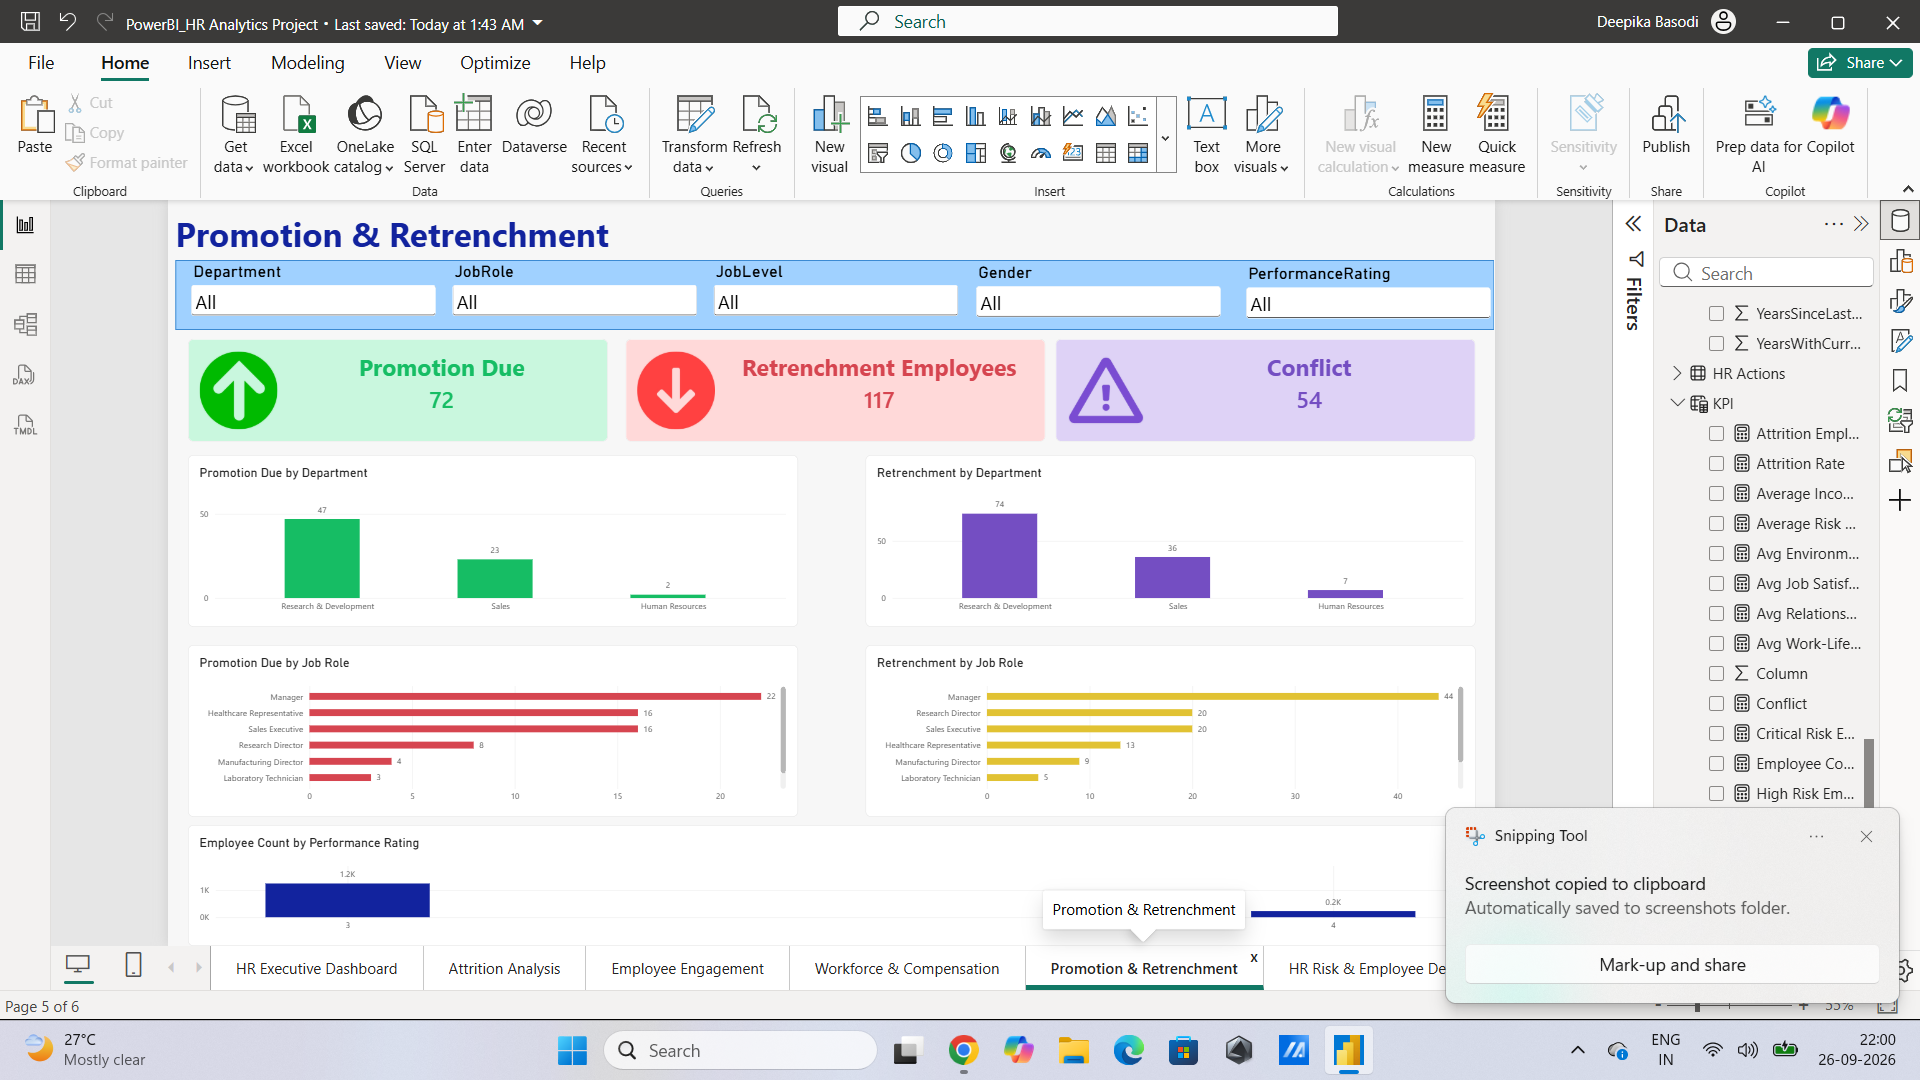

The dashboard page shown, as its layout file describes it:
{"tool":"powerbi","page":{"name":"Promotion & Retrenchment","canvas":[1920,1080],"ordinal":4},"visuals":[{"type":"shape","box":[10.9,86.9,1909.2,101.3],"z":0},{"type":"textbox","box":[10.9,16.3,667.8,70.6],"z":1000},{"type":"slicer","fields":{"Values":["HR.Department"]},"box":[28.1,88.7,363.6,110.4],"z":2000},{"type":"slicer","fields":{"Values":["HR.JobRole"]},"box":[406.9,88.7,363.6,110.4],"z":3000},{"type":"slicer","fields":{"Values":["HR.JobLevel"]},"box":[785.6,88.7,363.6,110.4],"z":4000},{"type":"slicer","fields":{"Values":["HR.Gender"]},"box":[1165.4,90.5,363.6,110.4],"z":5000},{"type":"slicer","fields":{"Values":["HR.PerformanceRating"]},"box":[1556,93.1,363.6,110.4],"z":6000},{"type":"cardVisual","fields":{"Data":["KPI.Promotion Due"]},"box":[28.1,201.3,608.1,149.3],"z":7000},{"type":"cardVisual","fields":{"Data":["KPI.Retrenchment Employees"]},"box":[662.2,201.3,608.1,149.3],"z":8000},{"type":"cardVisual","fields":{"Data":["KPI.Conflict"]},"box":[1285.5,201.3,608.1,149.3],"z":9000},{"type":"clusteredColumnChart","fields":{"Category":["HR.Department"],"Y":["KPI.Promotion Due"]},"box":[28.1,370.1,883,248.9],"z":10000},{"type":"clusteredColumnChart","title":"Retrenchment by Department","fields":{"Category":["HR.Department"],"Y":["KPI.Retrenchment Employees"]},"box":[1010.7,370.1,883,248.9],"z":11000},{"type":"clusteredBarChart","title":"Promotion Due by Job Role","fields":{"Category":["HR.JobRole"],"Y":["KPI.Promotion Due"]},"box":[28.1,644.9,883,248.9],"z":12000},{"type":"clusteredBarChart","title":"Retrenchment by Job Role","fields":{"Category":["HR.JobRole"],"Y":["KPI.Retrenchment Employees"]},"box":[1010.7,644.9,883,248.9],"z":13000},{"type":"clusteredColumnChart","title":"Employee Count by Performance Rating","fields":{"Category":["HR.PerformanceRating"],"Y":["KPI.Total Employees"]},"box":[28.1,904.6,1865.5,175.3],"z":14000}]}

Visuals, with their boxes on the page's 1920x1080 design canvas (x1, y1, x2, y2). These are canvas units, not pixel positions in the 1920x1080 screenshot, which may show the page scaled, cropped or inside an application window:
shape: [11,87,1920,188]
textbox: [11,16,679,87]
slicer - HR.Department: [28,89,392,199]
slicer - HR.JobRole: [407,89,770,199]
slicer - HR.JobLevel: [786,89,1149,199]
slicer - HR.Gender: [1165,90,1529,201]
slicer - HR.PerformanceRating: [1556,93,1920,204]
cardVisual - KPI.Promotion Due: [28,201,636,351]
cardVisual - KPI.Retrenchment Employees: [662,201,1270,351]
cardVisual - KPI.Conflict: [1286,201,1894,351]
clusteredColumnChart - HR.Department x KPI.Promotion Due: [28,370,911,619]
"Retrenchment by Department" clusteredColumnChart: [1011,370,1894,619]
"Promotion Due by Job Role" clusteredBarChart: [28,645,911,894]
"Retrenchment by Job Role" clusteredBarChart: [1011,645,1894,894]
"Employee Count by Performance Rating" clusteredColumnChart: [28,905,1894,1080]
